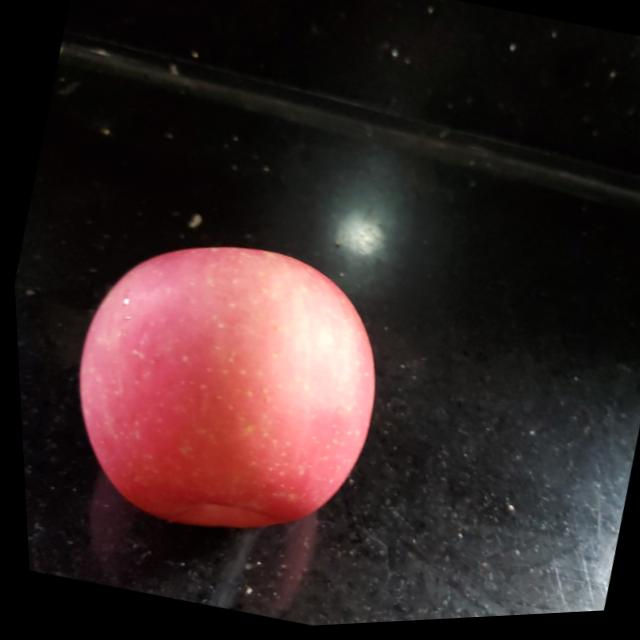apple: (41, 210, 412, 573)
